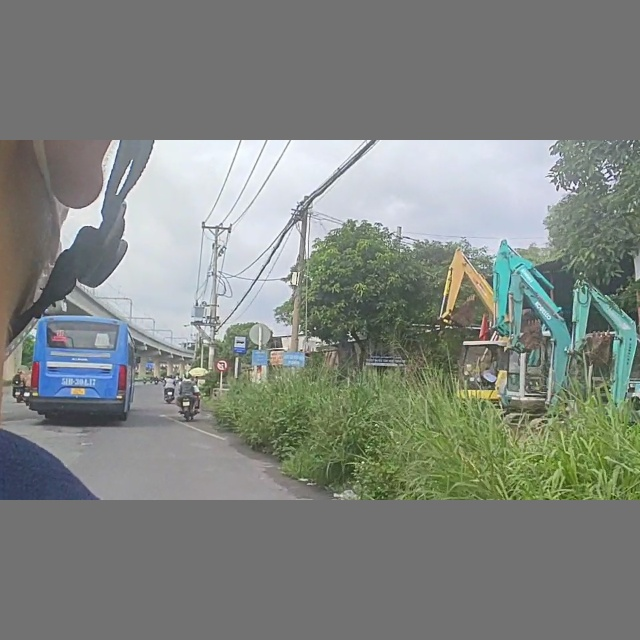I.434a: (233, 335, 248, 354)
P.123a: (215, 359, 229, 371)
